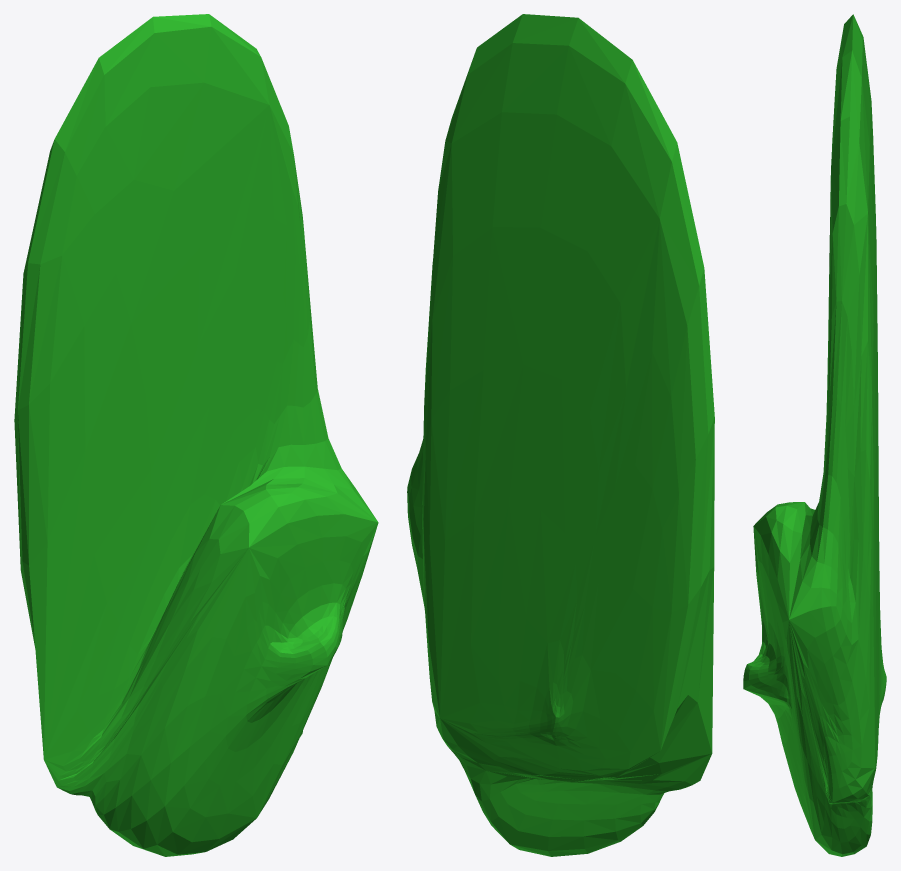
3 views of the same model, side by side, from view 1: azimuth 30°, elevation 25°; view 2: azimuth 150°, elevation 25°; view 3: azimuth 270°, elevation 25° (orthographic). The views are drawn at different scales.
Parts seen in each view (by area): view 1: 024_Cube.108; view 2: 024_Cube.108; view 3: 024_Cube.108.
Boxes of the visible parts, x1=… form: 024_Cube.108: x1=14, y1=14, x2=378, y2=856; 024_Cube.108: x1=407, y1=14, x2=714, y2=856; 024_Cube.108: x1=743, y1=14, x2=886, y2=856.
Bounding box in the file's own units: 5.19 × 12.71 × 2.02.
